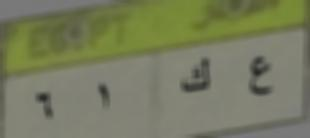1: (95, 75, 116, 113)
6: (32, 89, 58, 128)
ain: (239, 50, 275, 98)
kaaf: (174, 55, 215, 97)
